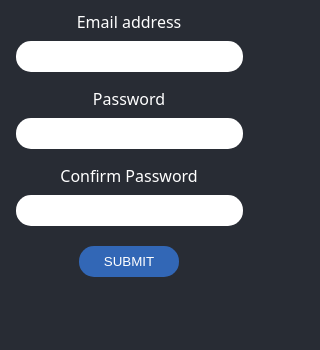
Test: App › Email Input › should show email error message on invalid email
The width and height of the screenshot is (320, 350).
Expected: the text "the email you input is invalid" is not shown
Click the button "Submit": coordinates (129, 262) [79,246,179,277]
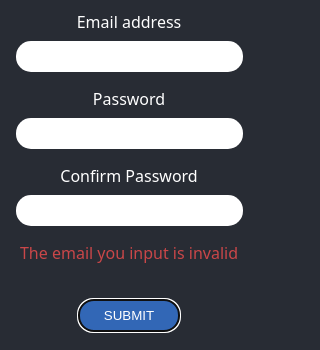
Result: the text "The email you input is invalid" is shown at [20,242,238,264]
